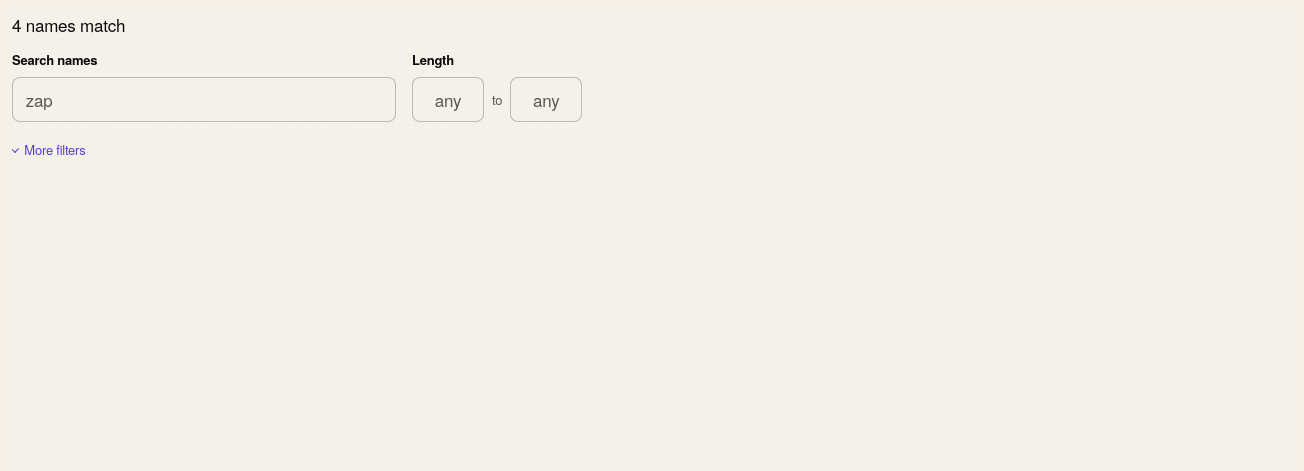
Scenario: Toolbar reset › offers a link back to the unfiltered view only while something is filtered
Step 1. Click the heading "More filters" → click(49, 150), box [12,134,86,166]
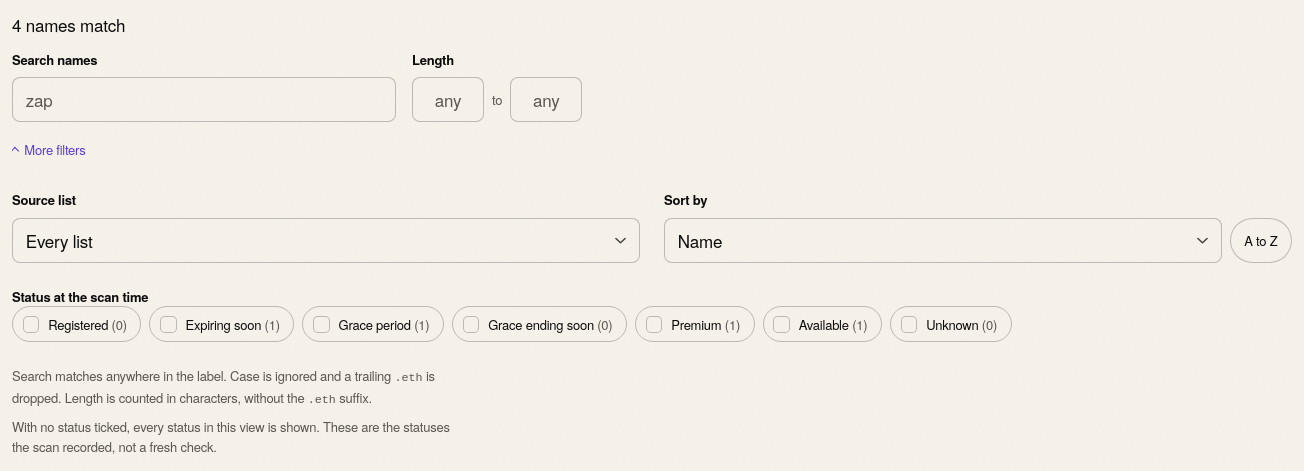
expect the link "Clear filters" is not shown: met
Step 2. Click the checkbox labelled "Available (1)" → click(782, 324), box [773,316,790,333]
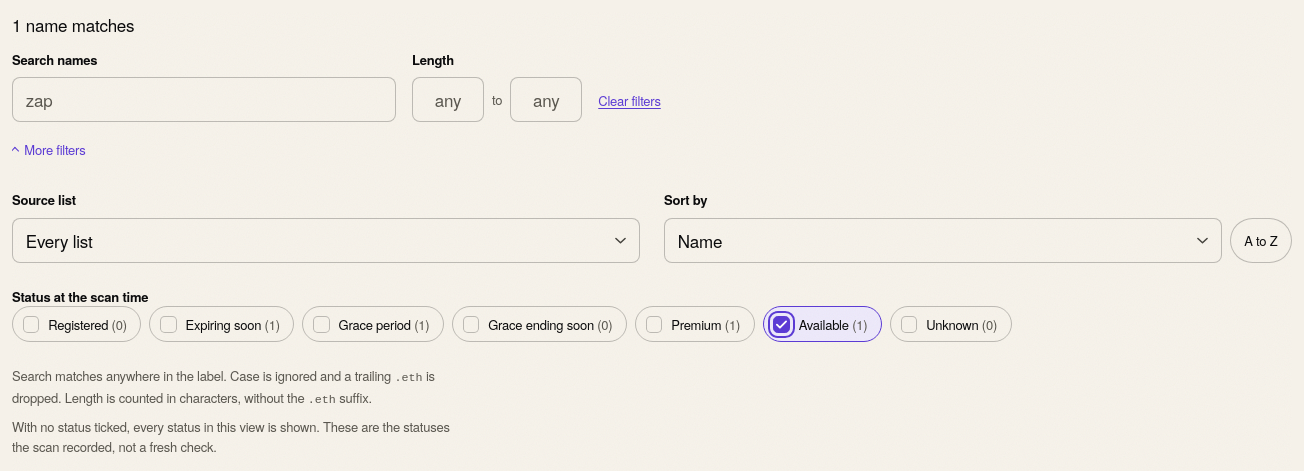
expect the link "Clear filters" is shown: met, box [598,91,661,122]
